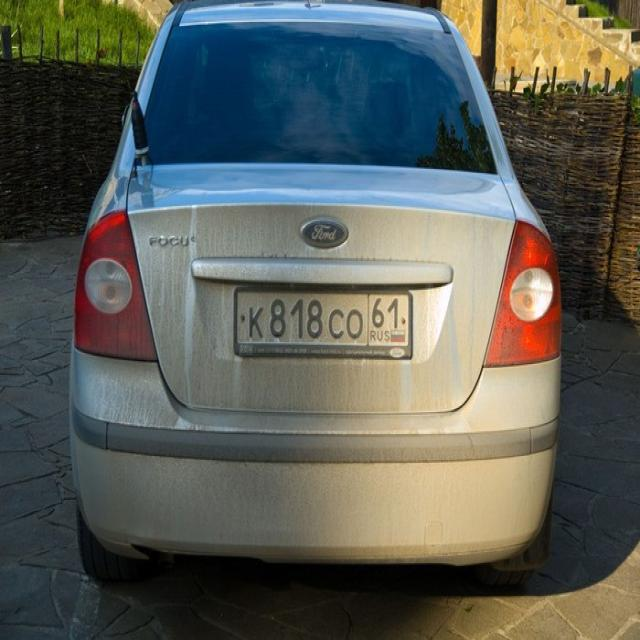number-plates: (233, 288, 412, 360)
